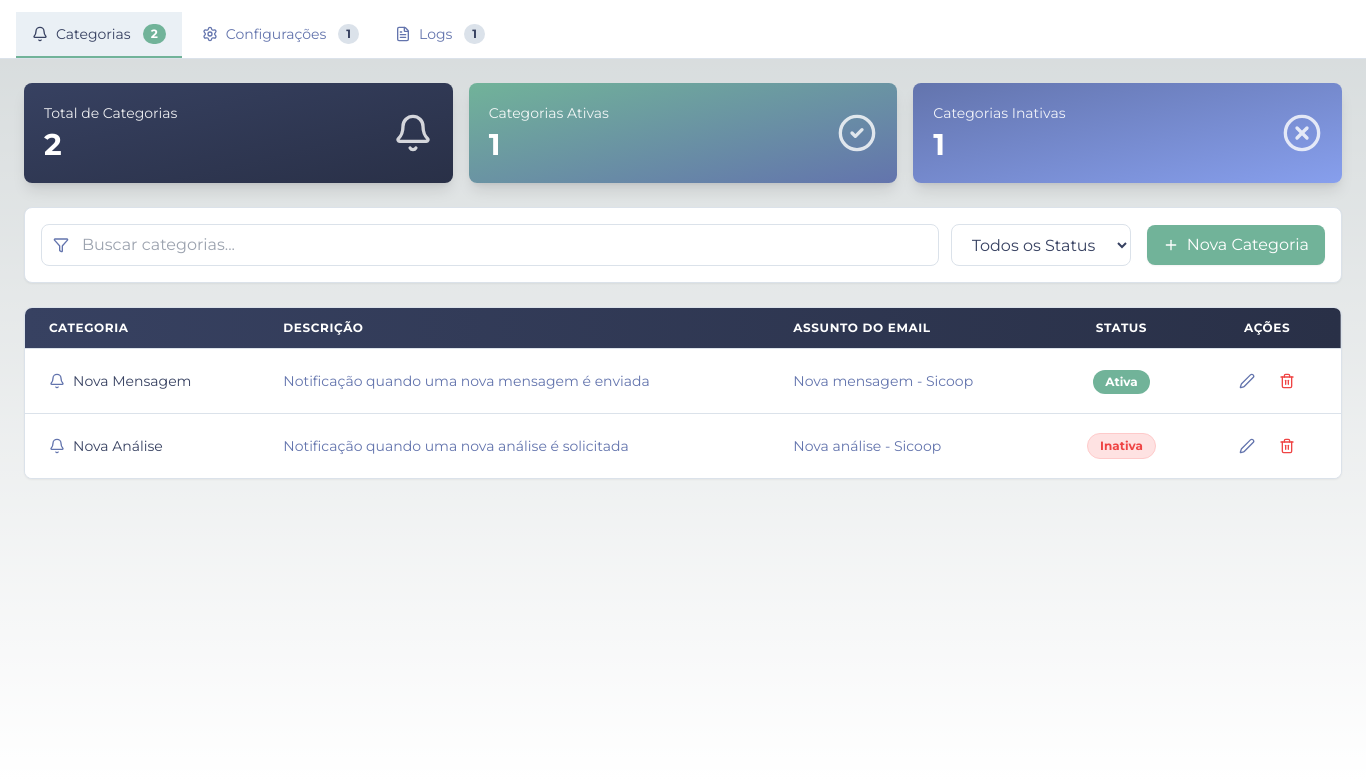
NotificationsManager › filtros e busca › filtros de categorias › deve buscar categorias por nome
Type "Nova Mensagem" into the field with placeholder "Buscar categorias...". click: point(490, 245)
box: [41,224,939,266]
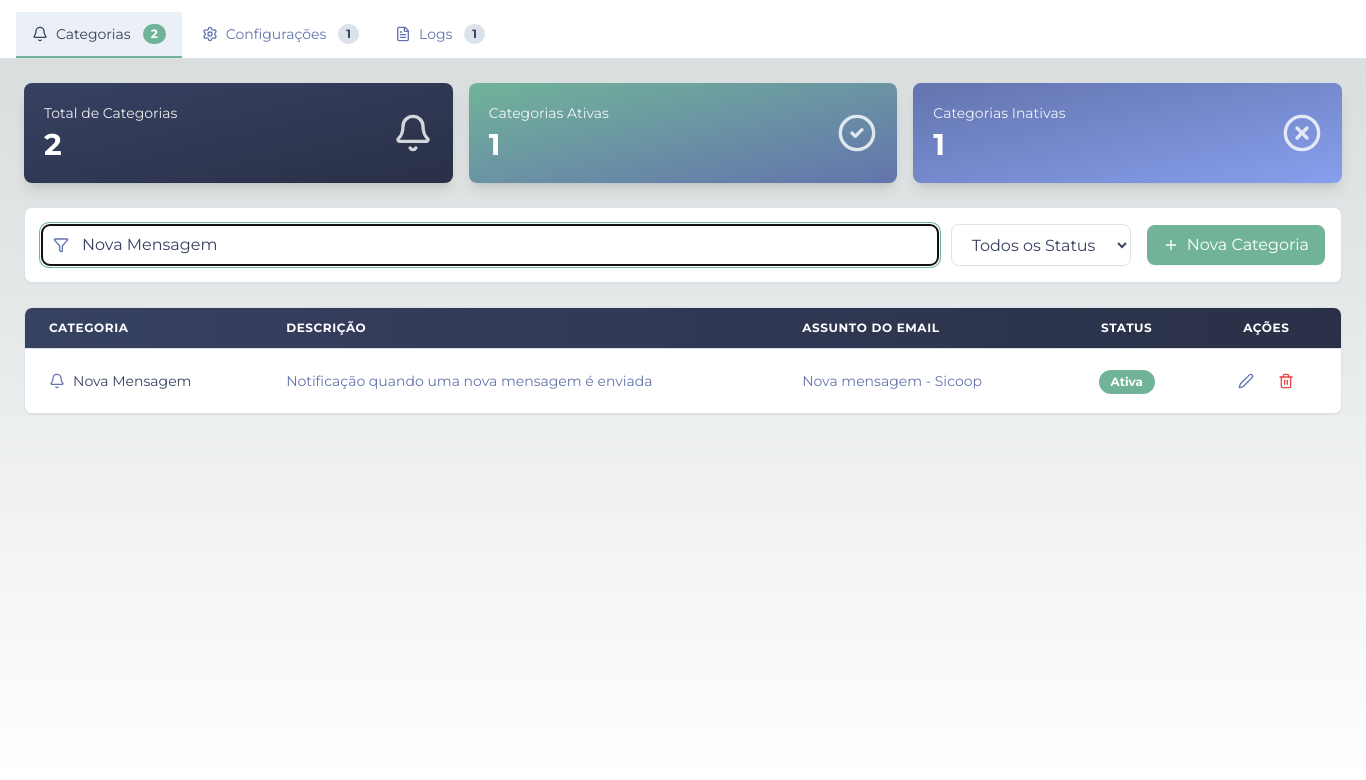
expect the text "Nova Mensagem" is shown: met, box [73,371,192,391]
expect the text "Nova Análise" is gone: met
